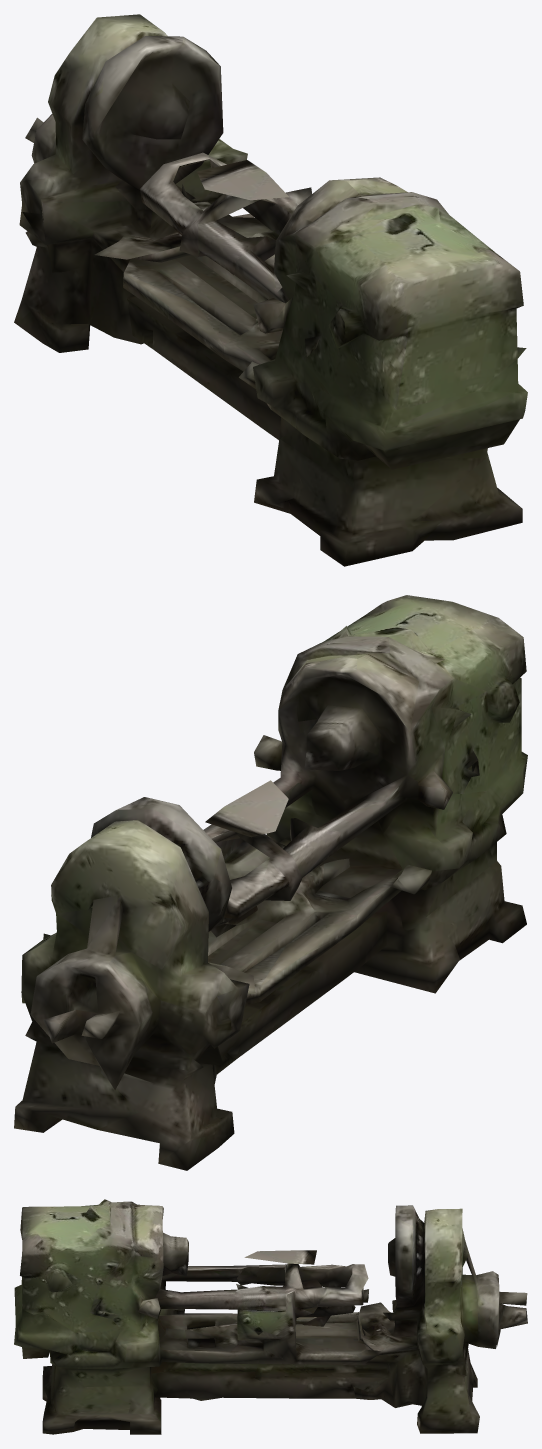
Rendered from e_lathe.glb.
The picture shows the model from 3 angles, top to bottom: view 1: azimuth 30°, elevation 25°; view 2: azimuth 150°, elevation 25°; view 3: azimuth 270°, elevation 25°; orthographic projection. The views are drawn at different scales.
Parts seen in each view (by area): view 1: tripo_node_1ff2659d-11d7-40b5-b691-87bf4ba82a74; view 2: tripo_node_1ff2659d-11d7-40b5-b691-87bf4ba82a74; view 3: tripo_node_1ff2659d-11d7-40b5-b691-87bf4ba82a74.
Boxes of the visible parts, box(x1,y1,x2,y2) form: tripo_node_1ff2659d-11d7-40b5-b691-87bf4ba82a74: box(14, 14, 527, 566); tripo_node_1ff2659d-11d7-40b5-b691-87bf4ba82a74: box(14, 595, 527, 1170); tripo_node_1ff2659d-11d7-40b5-b691-87bf4ba82a74: box(14, 1199, 527, 1434).
Size of the model in its own units: 0.3012 by 0.4297 by 1.
Materials: 1 (1 with a texture image).
